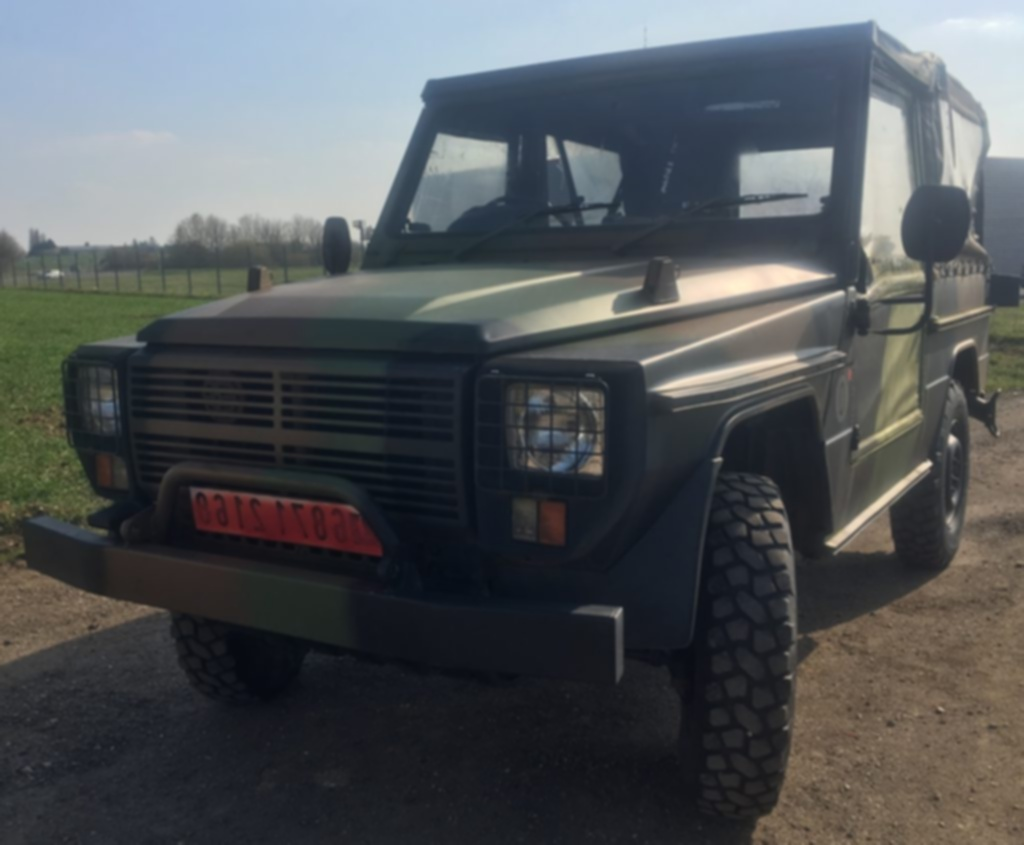license_plate: (188, 486, 382, 561)
